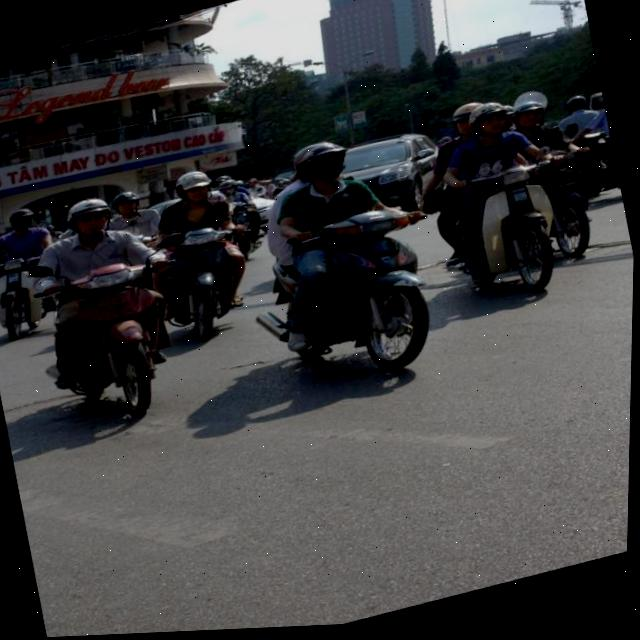motorcycle: (245, 177, 455, 418), (436, 136, 611, 318), (32, 253, 188, 446), (141, 215, 255, 355), (0, 243, 49, 350), (562, 121, 622, 207)
